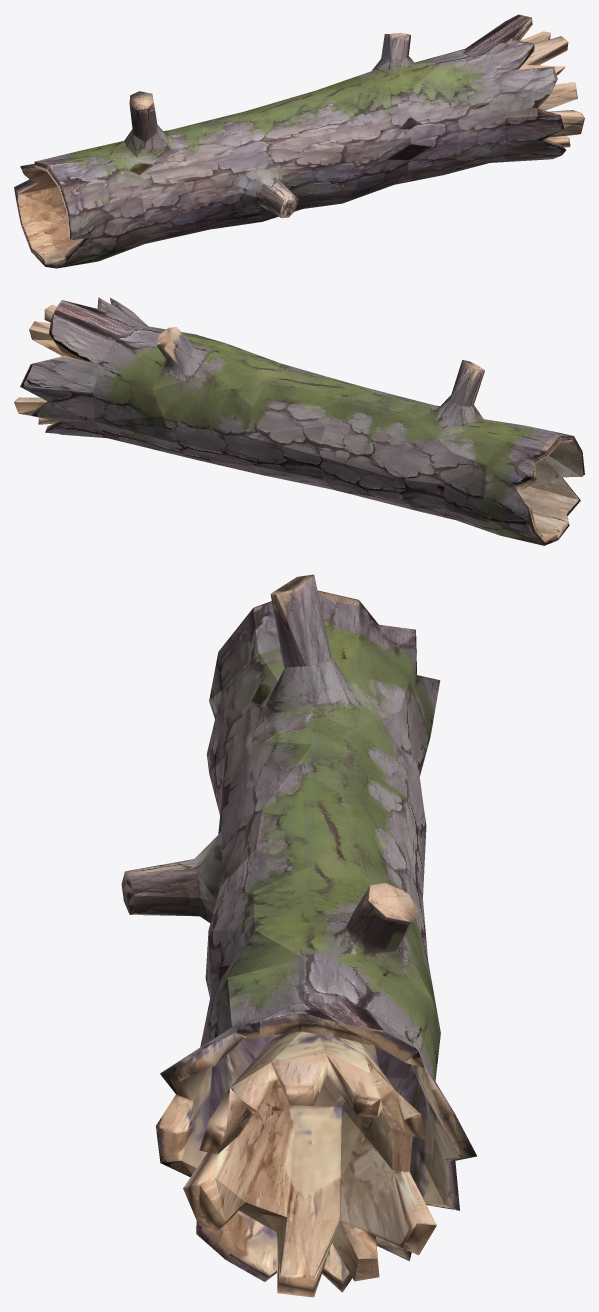
Rendered from source.glb.
The picture shows the model from 3 angles, top to bottom: view 1: azimuth 30°, elevation 25°; view 2: azimuth 150°, elevation 25°; view 3: azimuth 270°, elevation 25°; orthographic projection. The views are drawn at different scales.
Bounding box in the file's own units: 1 × 0.3018 × 0.2998.
Materials: 1 (1 with a texture image).
